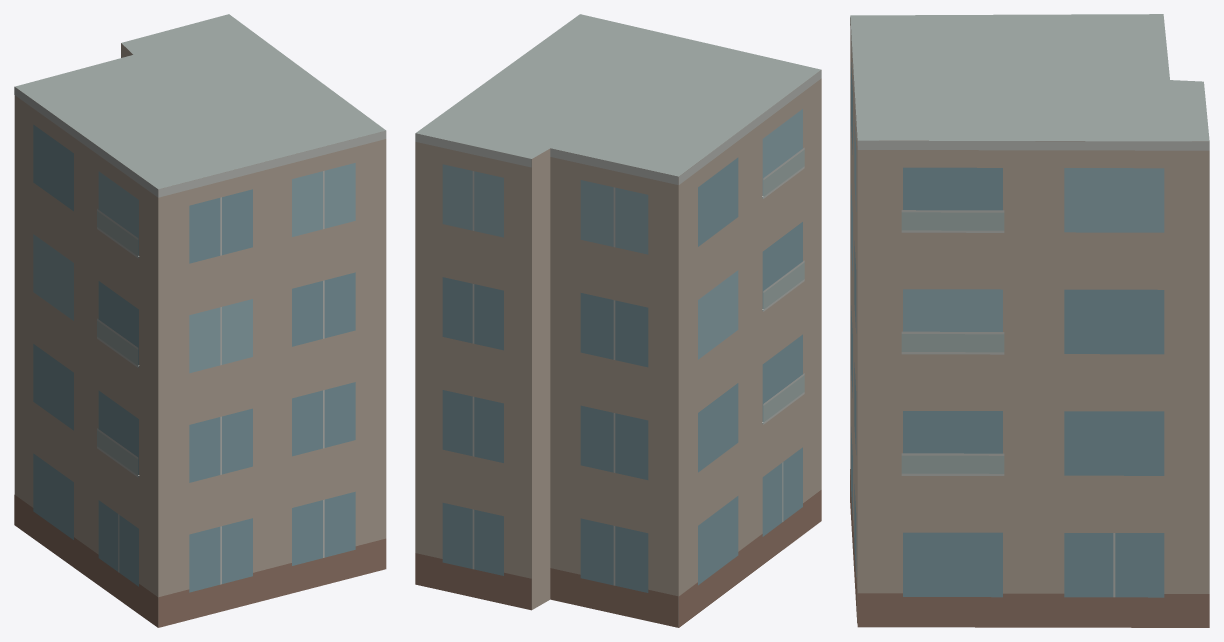
The model's file is survey-upis-32537072.glb.
3 renders of one model, left to right at view 1: azimuth 30°, elevation 25°; view 2: azimuth 150°, elevation 25°; view 3: azimuth 270°, elevation 25°, orthographic. The views are drawn at different scales.
Parts seen in each view (by area): view 1: survey-upis-32537072.tmp; view 2: survey-upis-32537072.tmp; view 3: survey-upis-32537072.tmp.
Boxes of the visible parts, x1=… form: survey-upis-32537072.tmp: x1=14, y1=14, x2=386, y2=627; survey-upis-32537072.tmp: x1=415, y1=14, x2=821, y2=627; survey-upis-32537072.tmp: x1=850, y1=14, x2=1209, y2=627.
Size of the model in its own units: 7.21 by 12.8 by 8.58.
